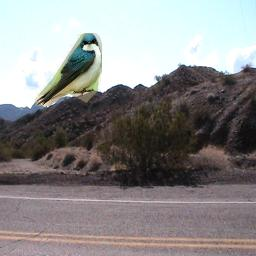Swallow: (35, 33, 102, 106)
